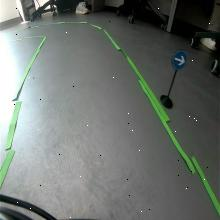right: (172, 48, 188, 70)
